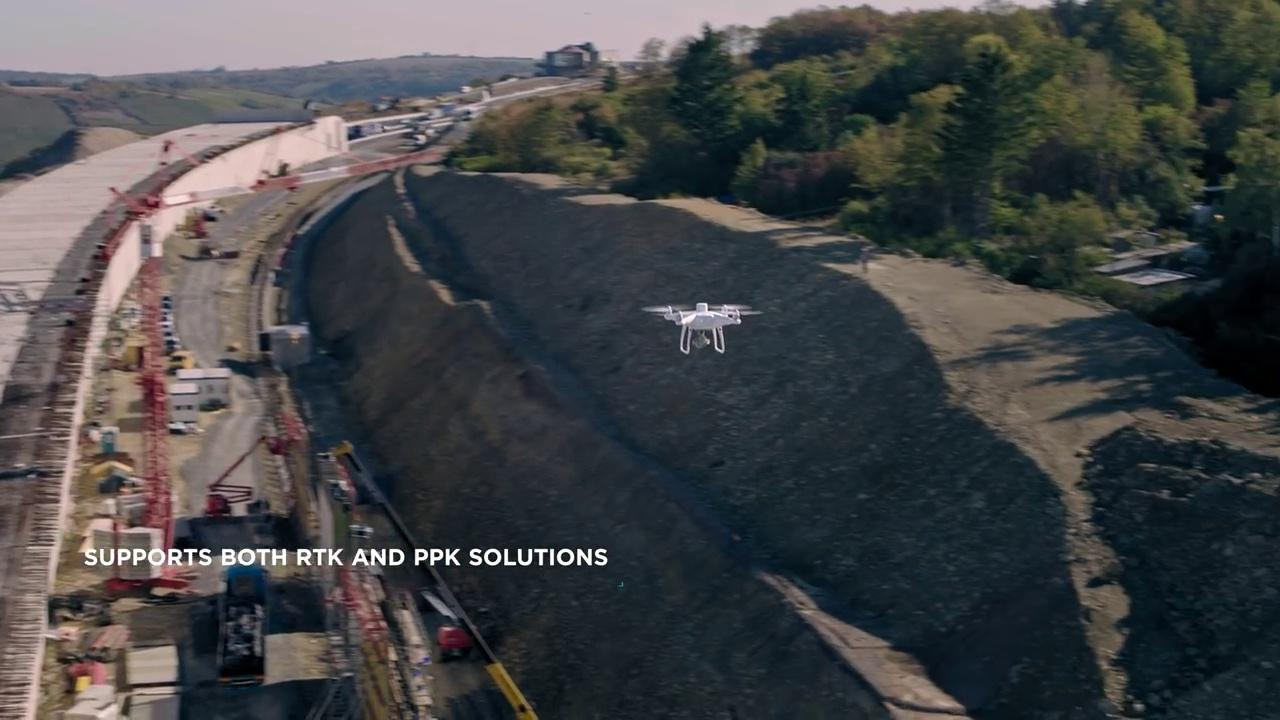drone: (640, 299, 765, 357)
